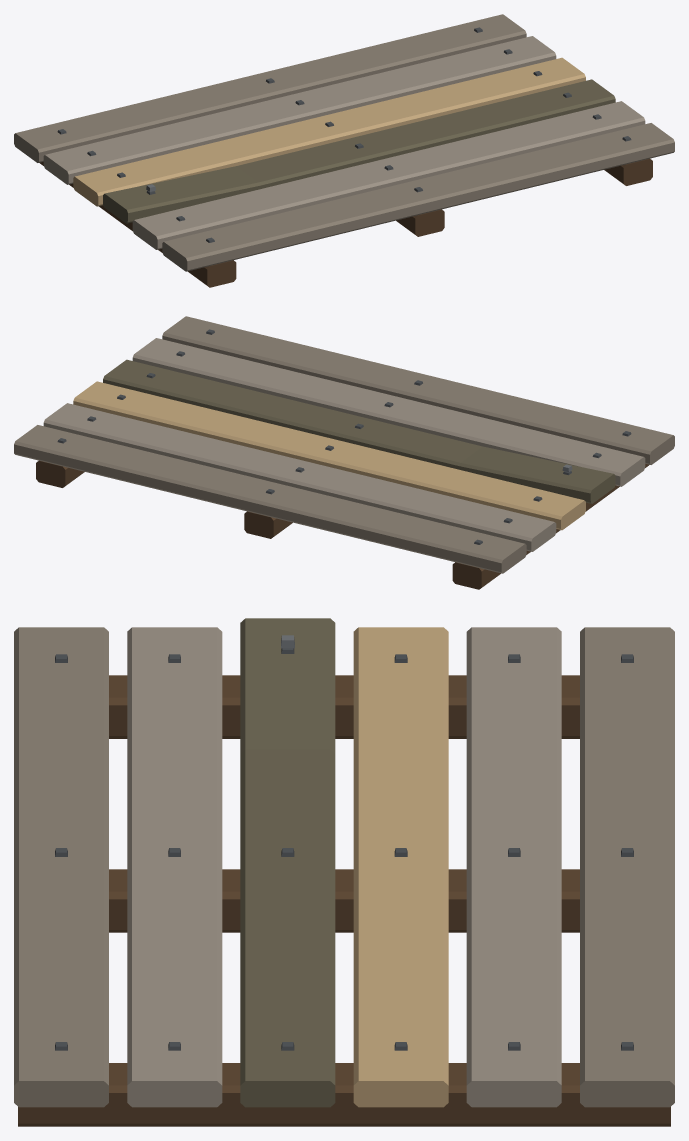
File: SM_LPD_Furn_DunnageBoards_01.fbx
3 renders of one model, top to bottom at view 1: azimuth 30°, elevation 25°; view 2: azimuth 150°, elevation 25°; view 3: azimuth 270°, elevation 25°, orthographic. The views are drawn at different scales.
Visible parts, largest first — view 1: SM_LPD_Furn_DunnageBoards_01; view 2: SM_LPD_Furn_DunnageBoards_01; view 3: SM_LPD_Furn_DunnageBoards_01.
Part boxes in pixels (x1,y1,x2,y2): SM_LPD_Furn_DunnageBoards_01: (14,14,674,287); SM_LPD_Furn_DunnageBoards_01: (14,316,674,589); SM_LPD_Furn_DunnageBoards_01: (14,618,674,1126).
Bounding box in the file's own units: 1.3 × 0.12 × 0.8.
